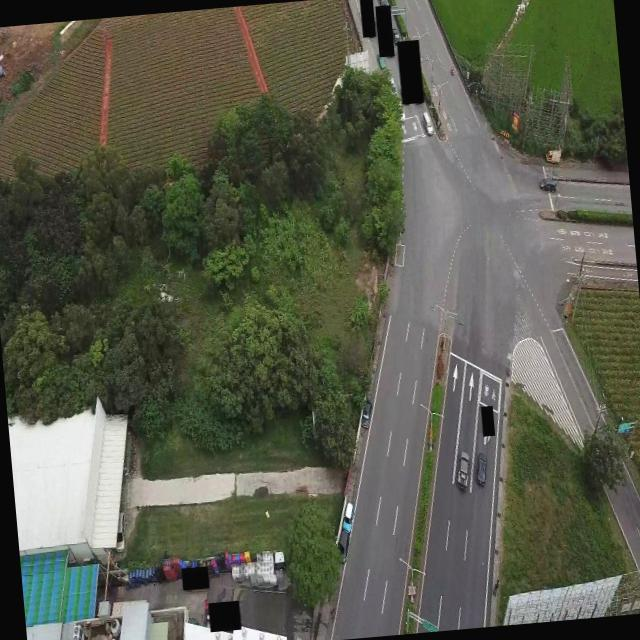car: (454, 450, 472, 490), (340, 501, 356, 534), (474, 451, 488, 487), (359, 401, 374, 429), (422, 110, 434, 136), (538, 176, 556, 192), (390, 22, 402, 46)
